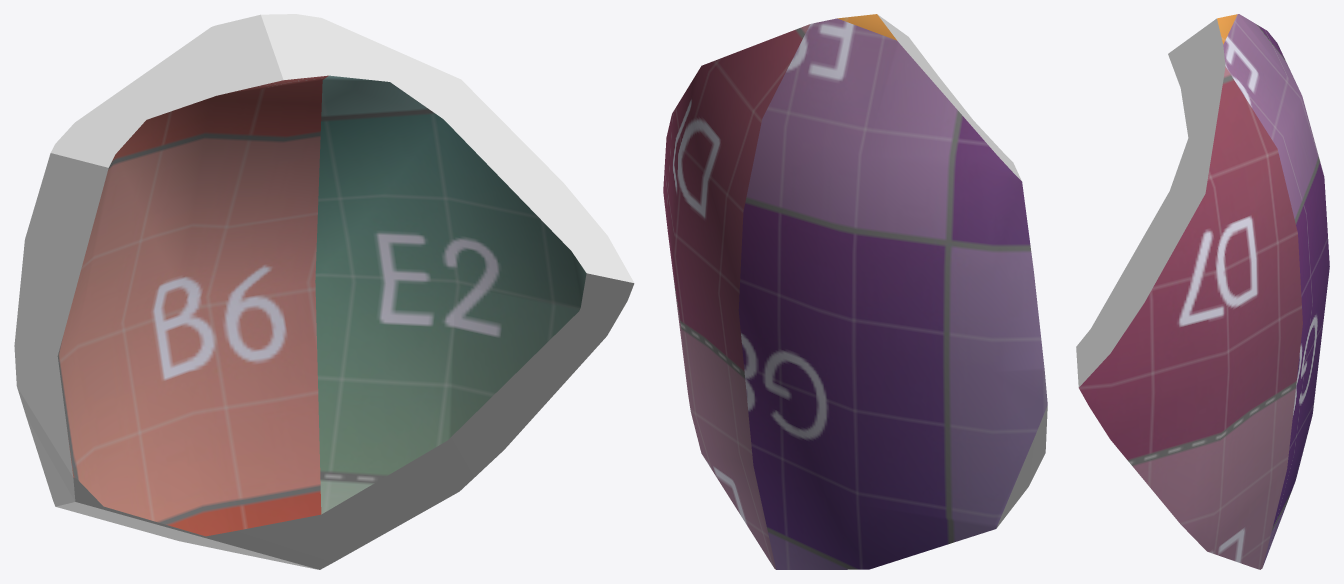
File: LongVase_SHAT_cell_002.fbx
3 views of the same model, side by side, from view 1: azimuth 30°, elevation 25°; view 2: azimuth 150°, elevation 25°; view 3: azimuth 270°, elevation 25° (orthographic). The views are drawn at different scales.
Visible parts, largest first — view 1: LongVase_SHAT_cell_002; view 2: LongVase_SHAT_cell_002; view 3: LongVase_SHAT_cell_002.
Boxes of the visible parts, x1,y1,x2,y2 form: LongVase_SHAT_cell_002: [14, 14, 634, 569]; LongVase_SHAT_cell_002: [663, 14, 1047, 569]; LongVase_SHAT_cell_002: [1076, 14, 1329, 569].
Size of the model in its own units: 0.8059 by 0.9022 by 0.4021.
2 materials, 1 textured.
